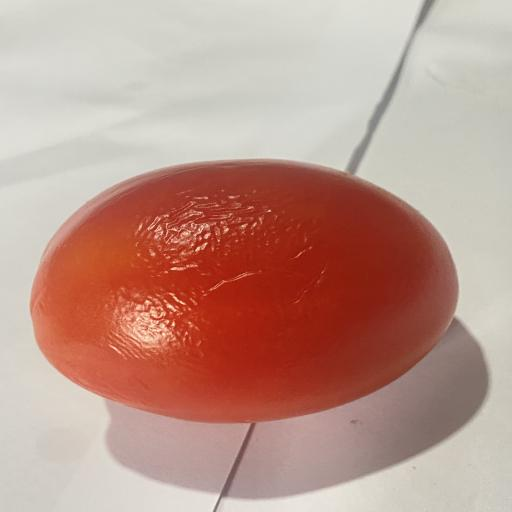spoiled: (30, 160, 458, 422)
